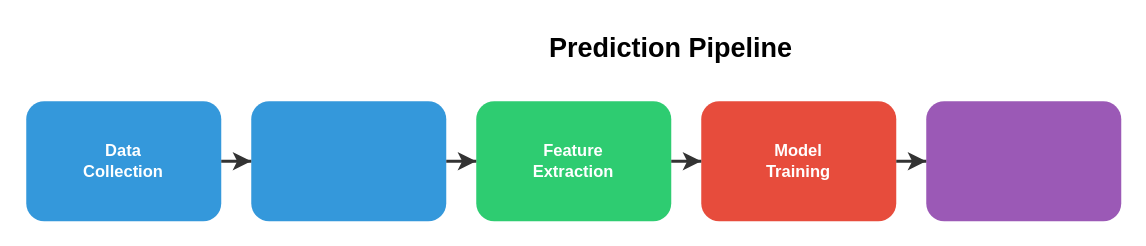
Some shapes in this 1146 by 246 pixel diagram are drawn without their labels. The box of each missing label's shape, as (x1, y1, x2, y2) in pixels:
Preprocess: (250, 100, 446, 220)
VRP Prediction: (926, 100, 1120, 220)
